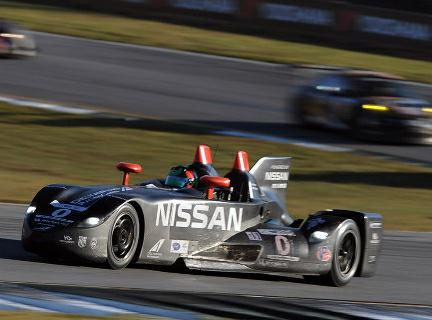日产-DeltaWing: (21, 139, 388, 293)
